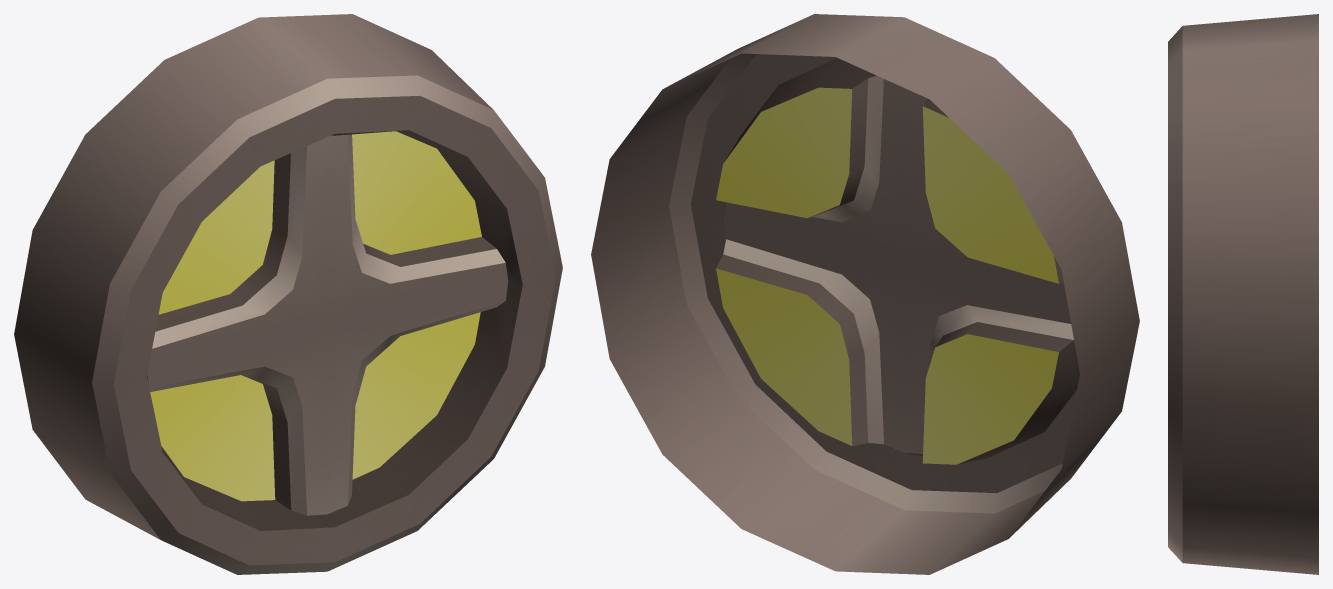
The model's file is elf_circle_window.fbx.
The picture shows the model from 3 angles, left to right: view 1: azimuth 30°, elevation 25°; view 2: azimuth 150°, elevation 25°; view 3: azimuth 270°, elevation 25°; orthographic projection.
Parts seen in each view (by area): view 1: elf_circle_window; view 2: elf_circle_window; view 3: elf_circle_window.
Boxes of the visible parts, box(x1,y1,x2,y2) form: elf_circle_window: box(14, 14, 562, 574); elf_circle_window: box(591, 14, 1139, 574); elf_circle_window: box(1168, 14, 1318, 574).
Bounding box in the file's own units: 141 × 141 × 38.02.
